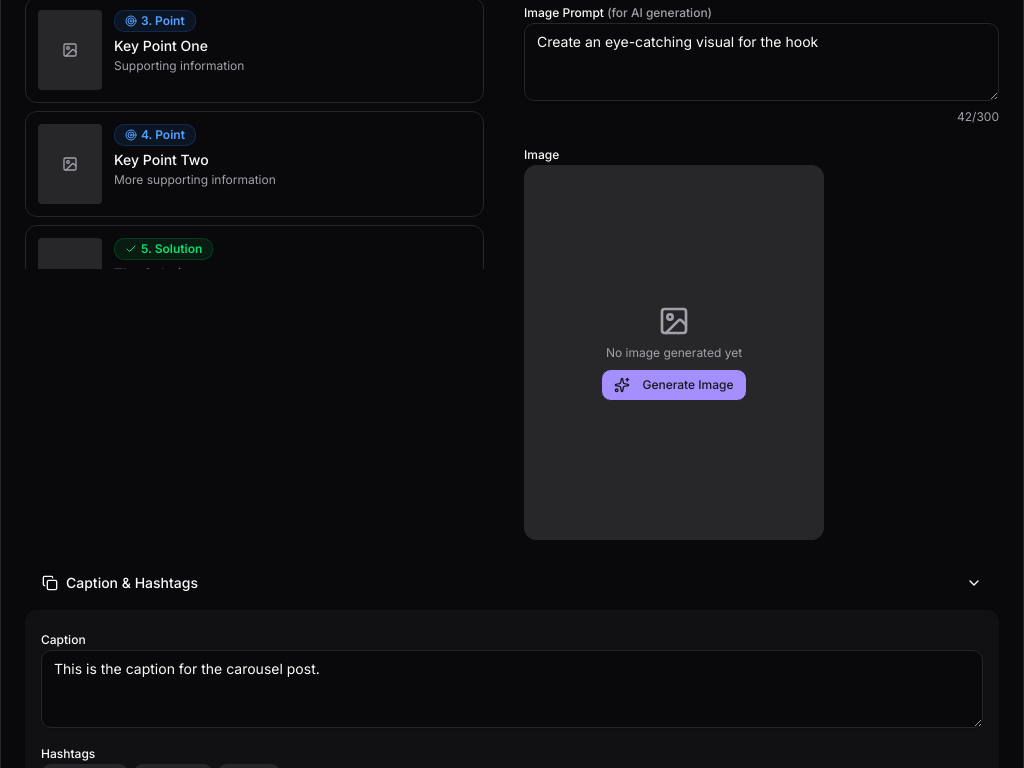
Test: CarouselBuilder - Slide Management › shows error state when image generation fails
(page scrolled)
// Click Generate Image button
Click the button "Generate Image" at (674, 384), box [601,368,746,400]
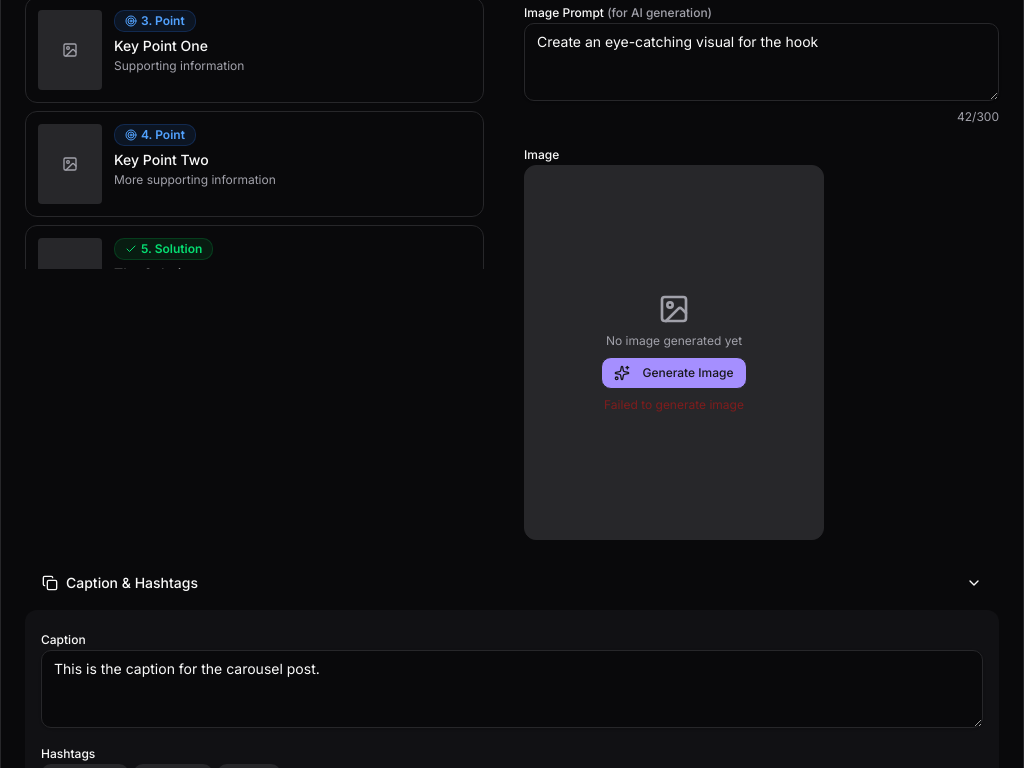
Now the text "Failed to generate image" is shown, box [604,396,744,412]
